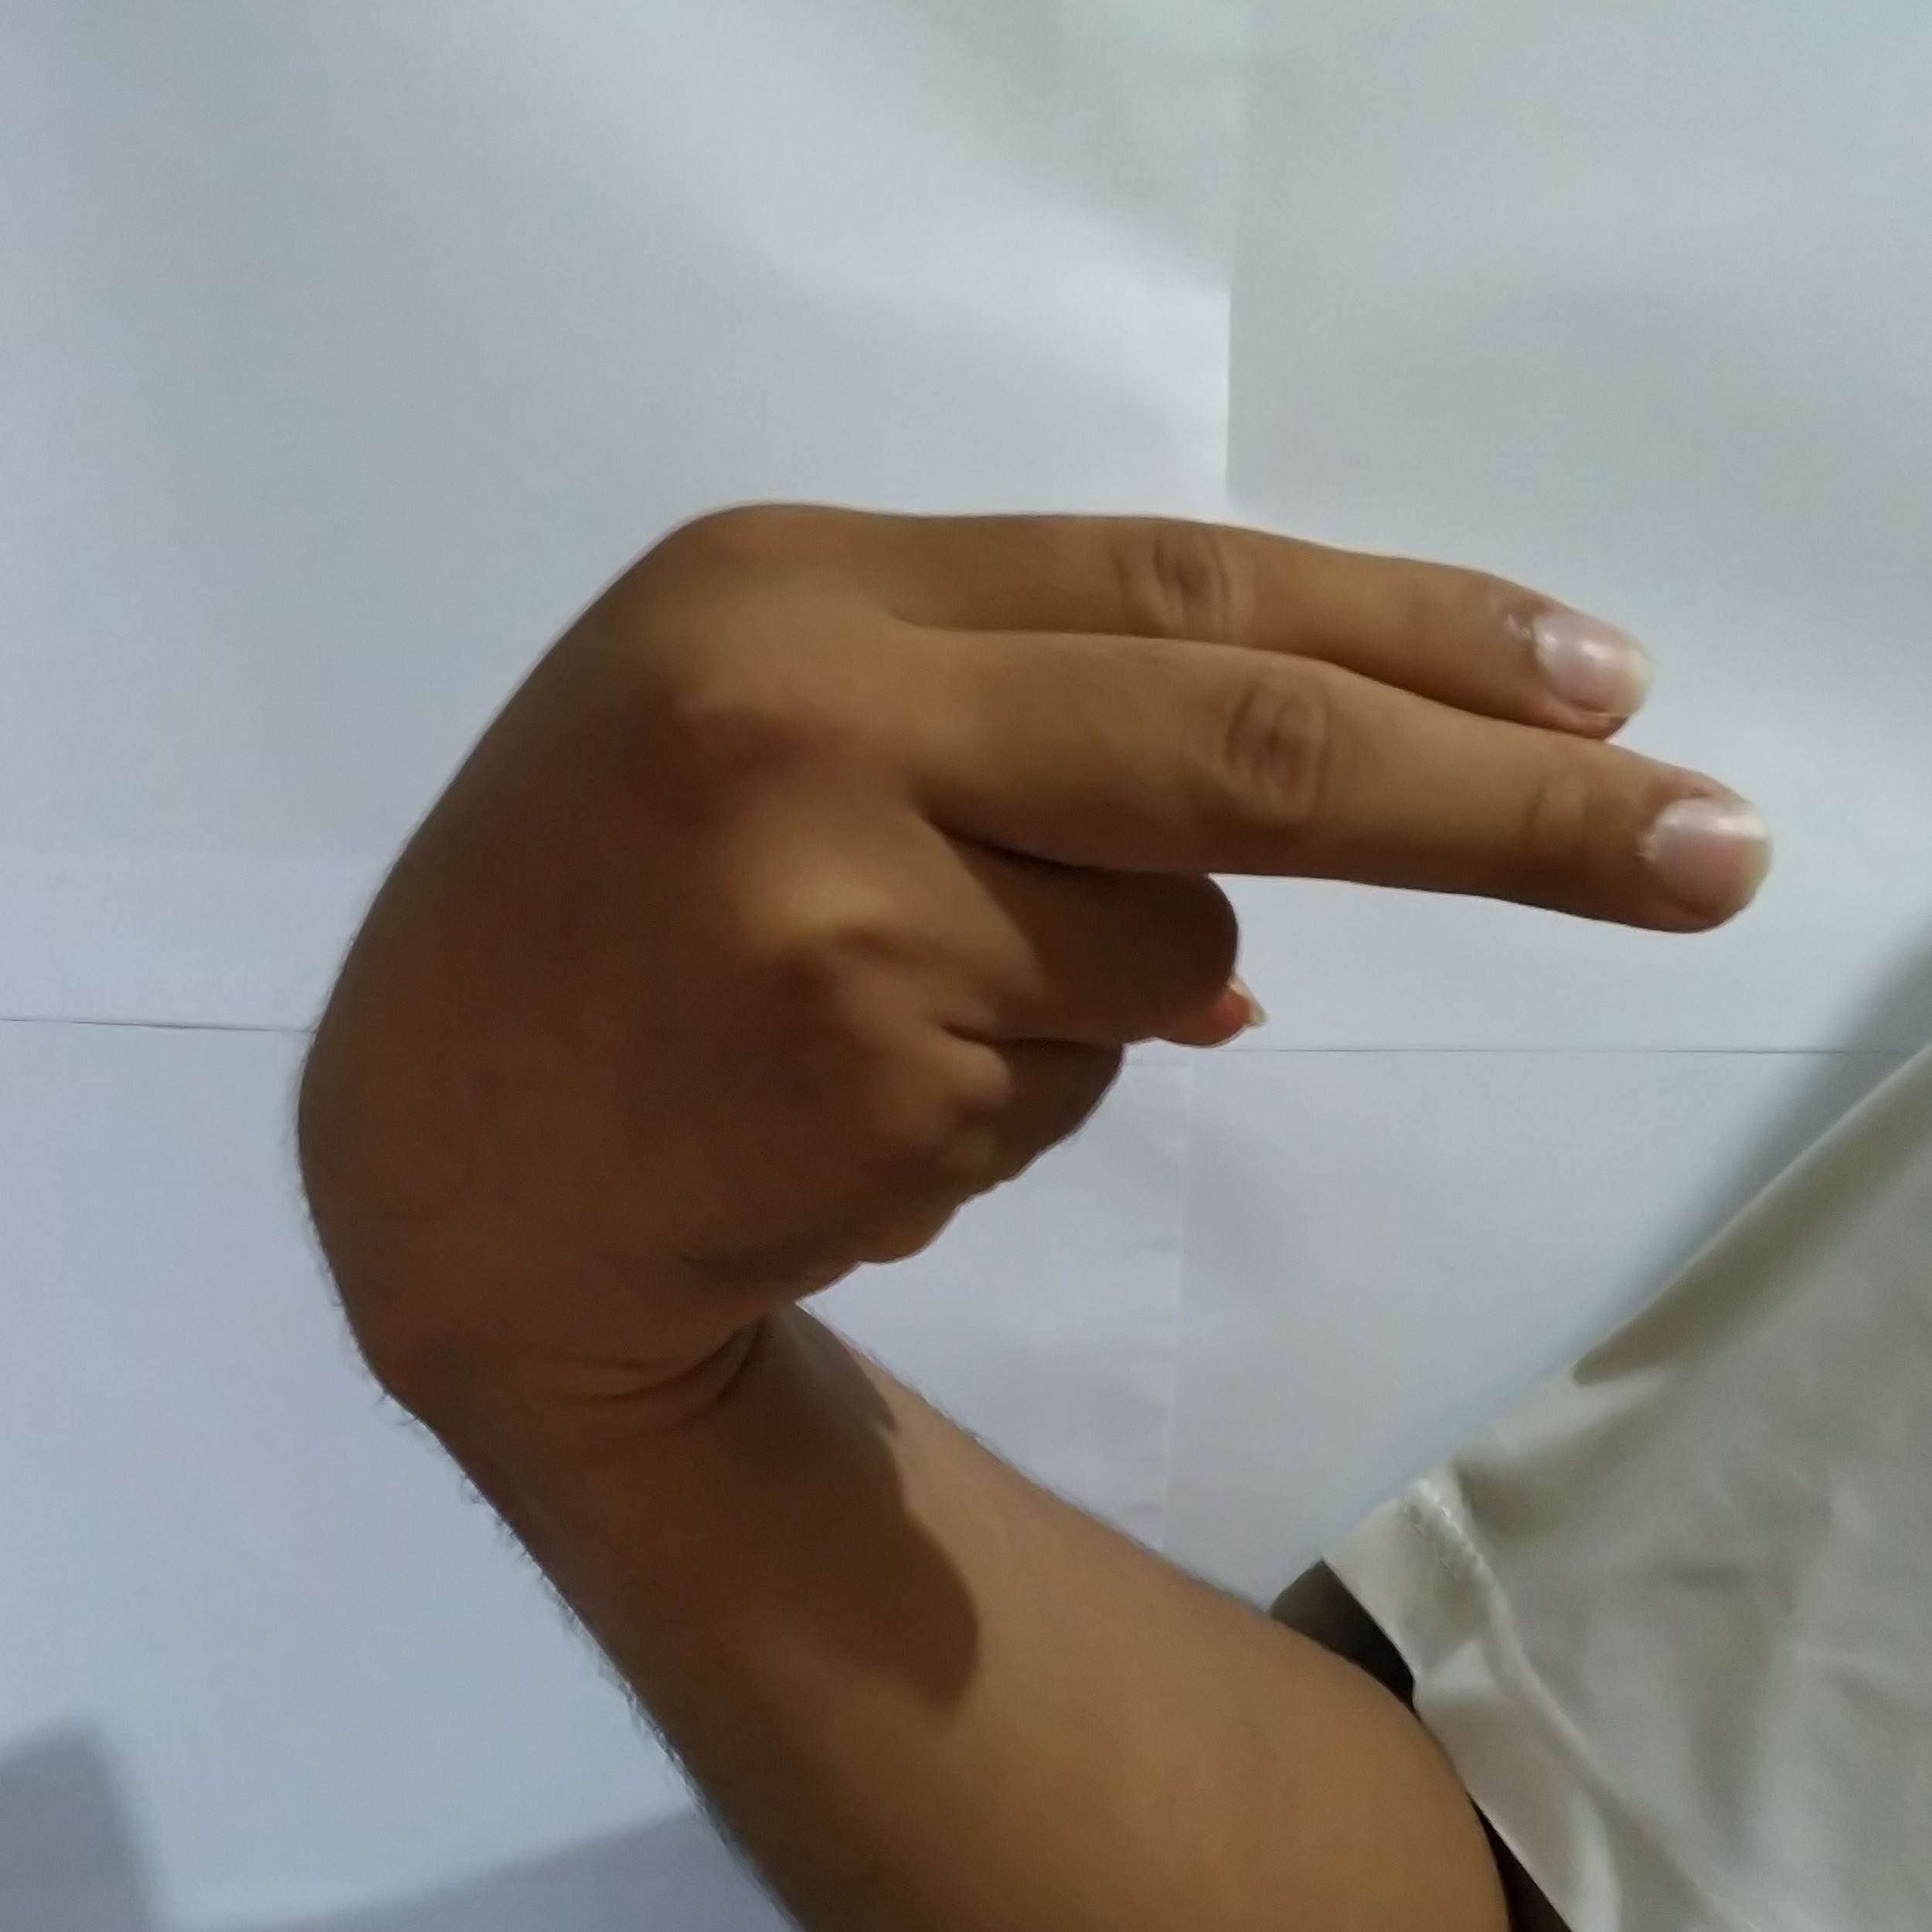H: (294, 488, 1789, 1387)
